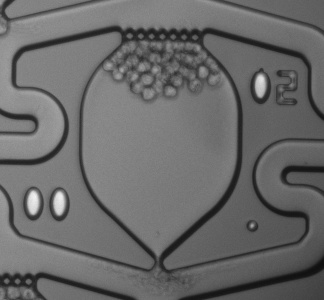AptNum: (245, 63, 305, 111)
Marker: (243, 215, 265, 236)
StNum: (15, 178, 79, 229)
Trap: (131, 257, 187, 300)
